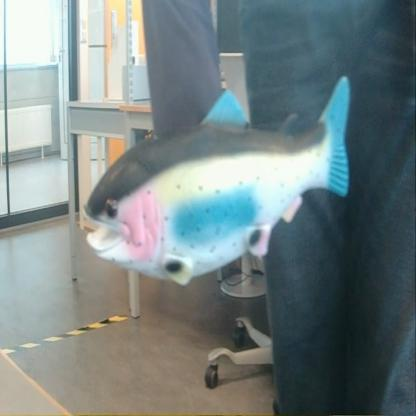rubberfish: (80, 70, 356, 290)
